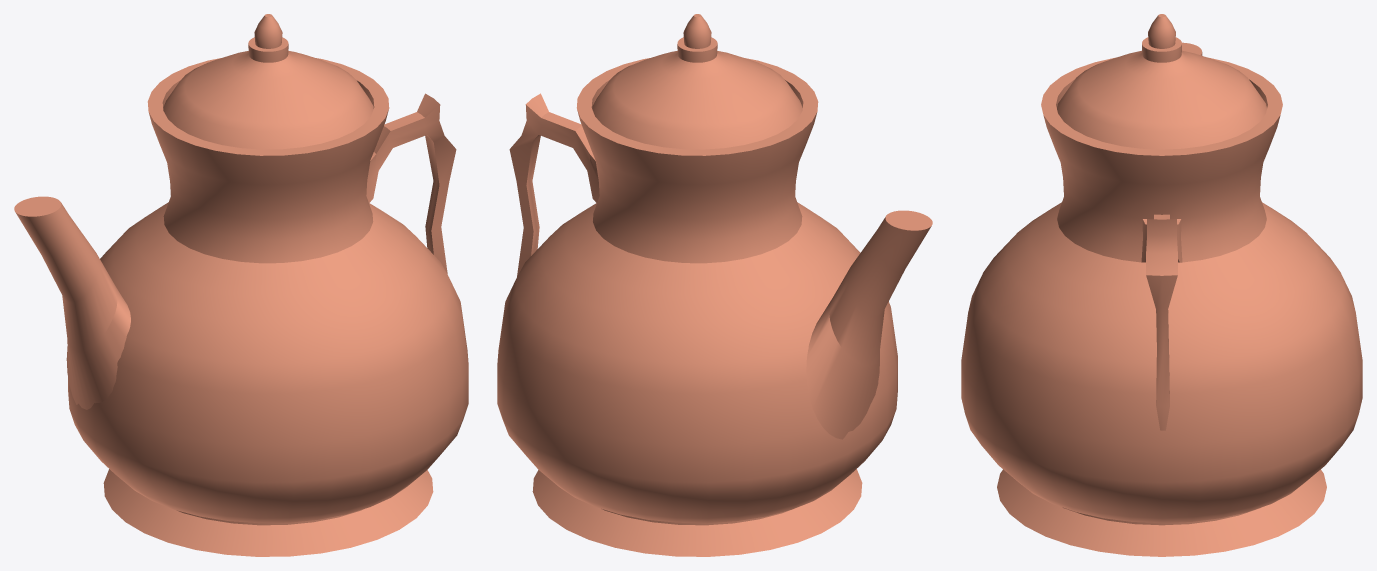
The model's file is tea pot shump asset.fbx.
3 views of the same model, side by side, from view 1: azimuth 30°, elevation 25°; view 2: azimuth 150°, elevation 25°; view 3: azimuth 270°, elevation 25° (orthographic).
Visible parts, largest first — view 1: tea pot.001; view 2: tea pot.001; view 3: tea pot.001.
Part boxes in pixels (box(x1,y1,x2,y2)): tea pot.001: box(14, 14, 468, 556); tea pot.001: box(497, 14, 932, 556); tea pot.001: box(961, 14, 1362, 556).
Bounding box in the file's own units: 135 × 144 × 111.
